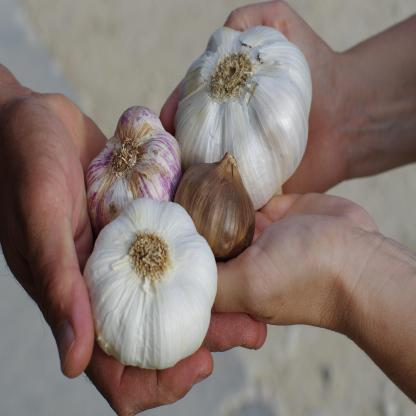garlic: (180, 21, 311, 198), (85, 212, 213, 364), (89, 109, 181, 209), (178, 164, 250, 251)
